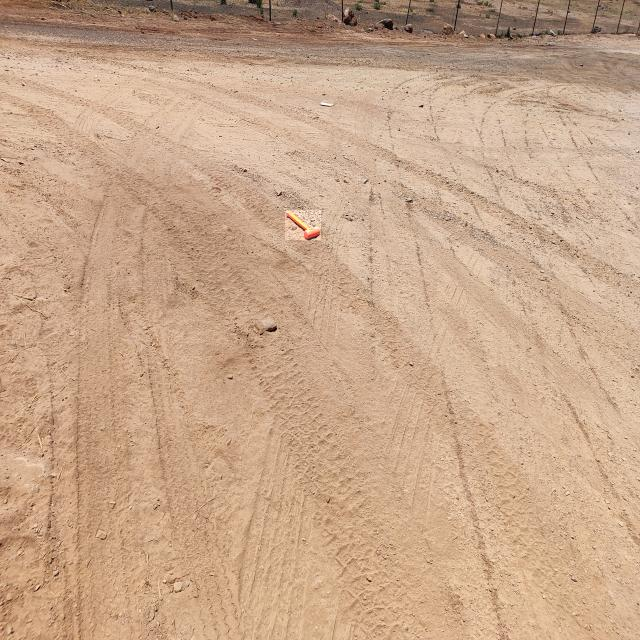Orange_hammer: (285, 210, 321, 240)
